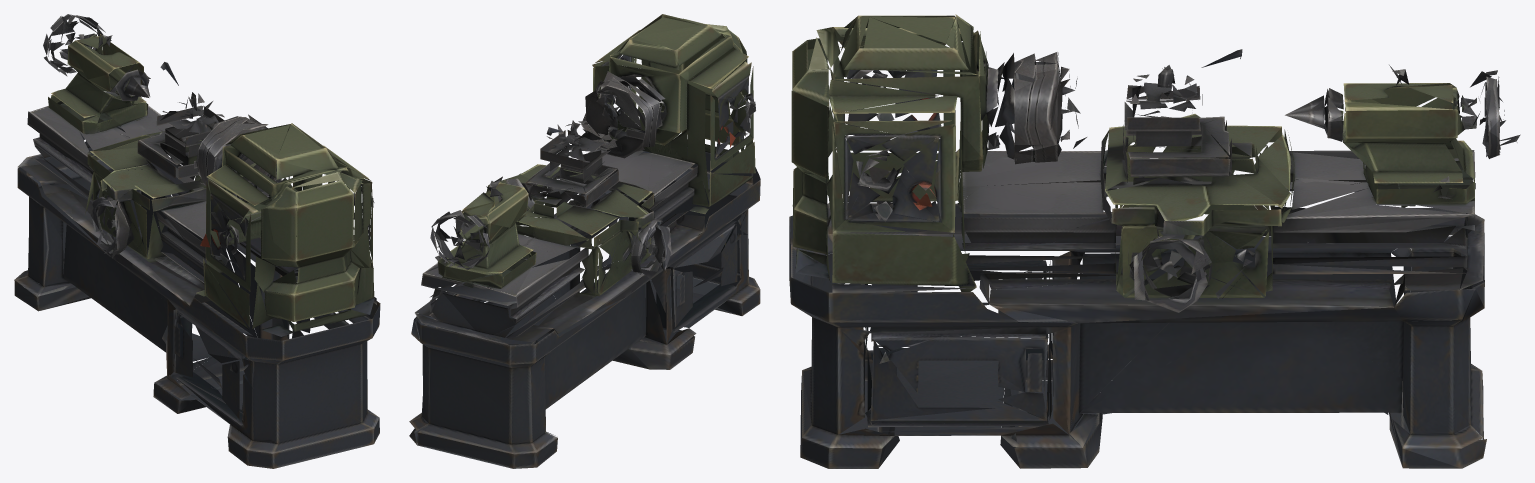
Rendered from machine_shop_lod2.glb.
The picture shows the model from 3 angles, left to right: view 1: azimuth 30°, elevation 25°; view 2: azimuth 150°, elevation 25°; view 3: azimuth 270°, elevation 25°; orthographic projection. The views are drawn at different scales.
Visible parts, largest first — view 1: LOD2; view 2: LOD2; view 3: LOD2.
Boxes of the visible parts, x1=… form: LOD2: x1=14, y1=14, x2=380, y2=468; LOD2: x1=409, y1=14, x2=760, y2=468; LOD2: x1=789, y1=14, x2=1520, y2=468.
Bounding box in the file's own units: 0.8498 × 1.29 × 2.17.
1 material, 1 textured.
